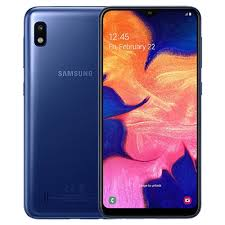samsung: (97, 4, 203, 219), (21, 5, 103, 221)
